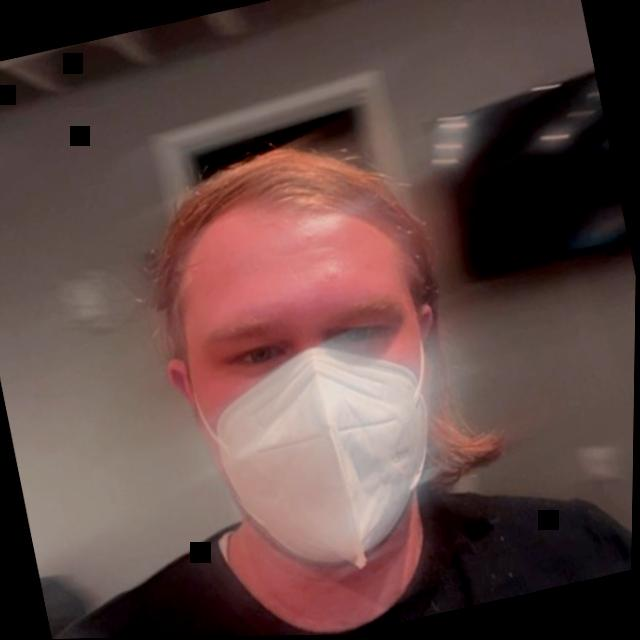Mask: (85, 101, 522, 622)
